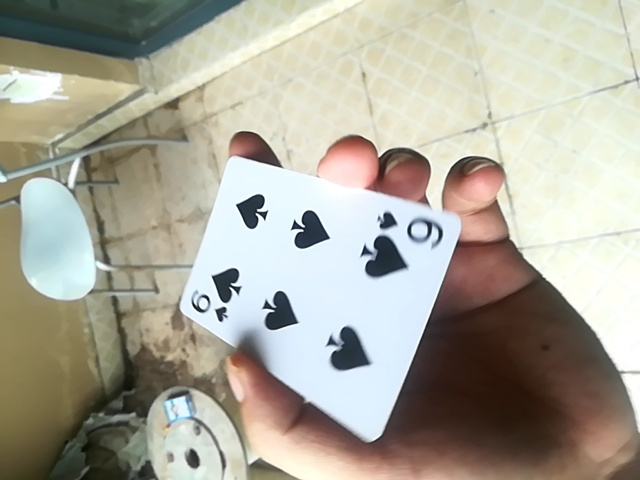ht 6: (174, 154, 461, 449)
